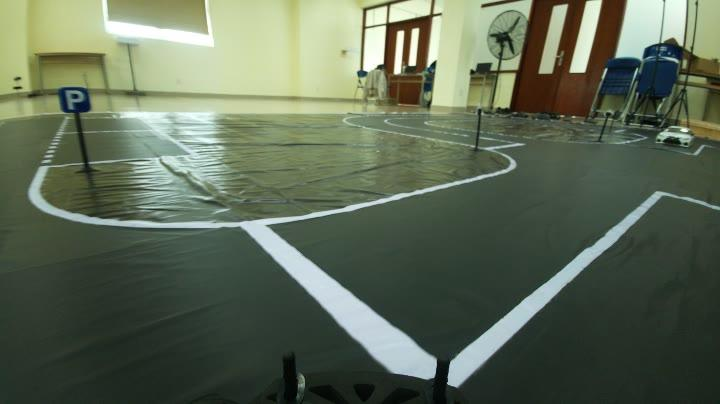parking: (46, 74, 97, 120)
